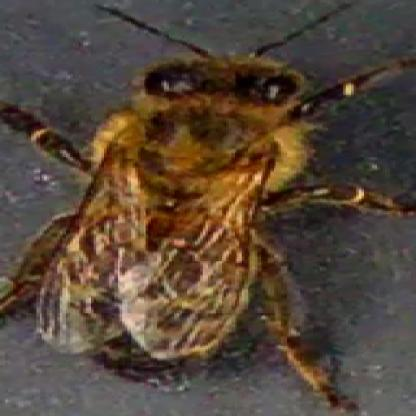bee: (55, 50, 314, 378)
